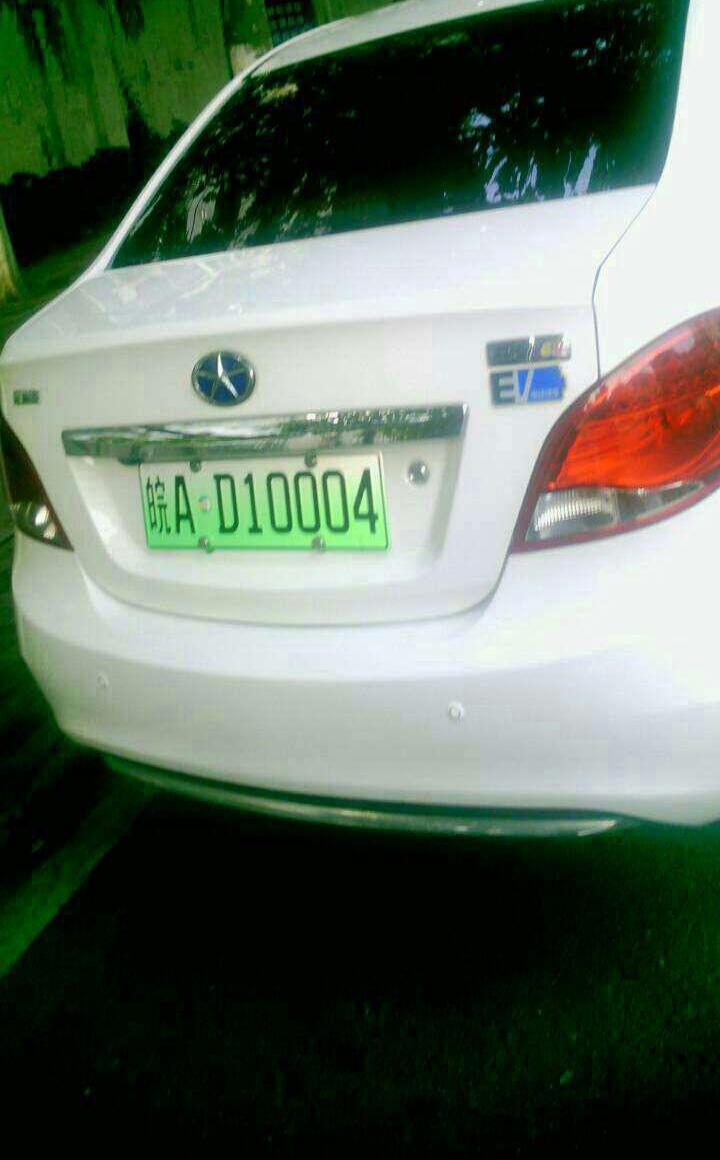car_id: (141, 449, 393, 549)
